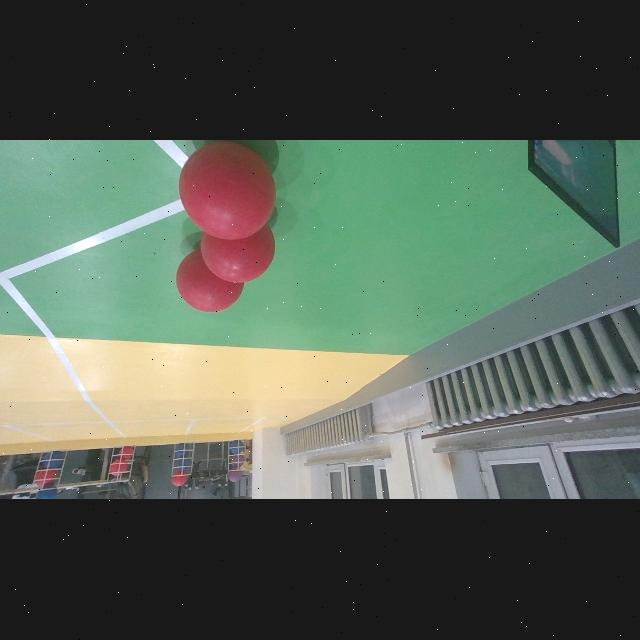R: (180, 142, 276, 240), (173, 253, 244, 315), (192, 230, 272, 284)
S: (25, 448, 67, 492), (167, 437, 195, 479), (104, 446, 130, 486), (226, 437, 248, 473)
